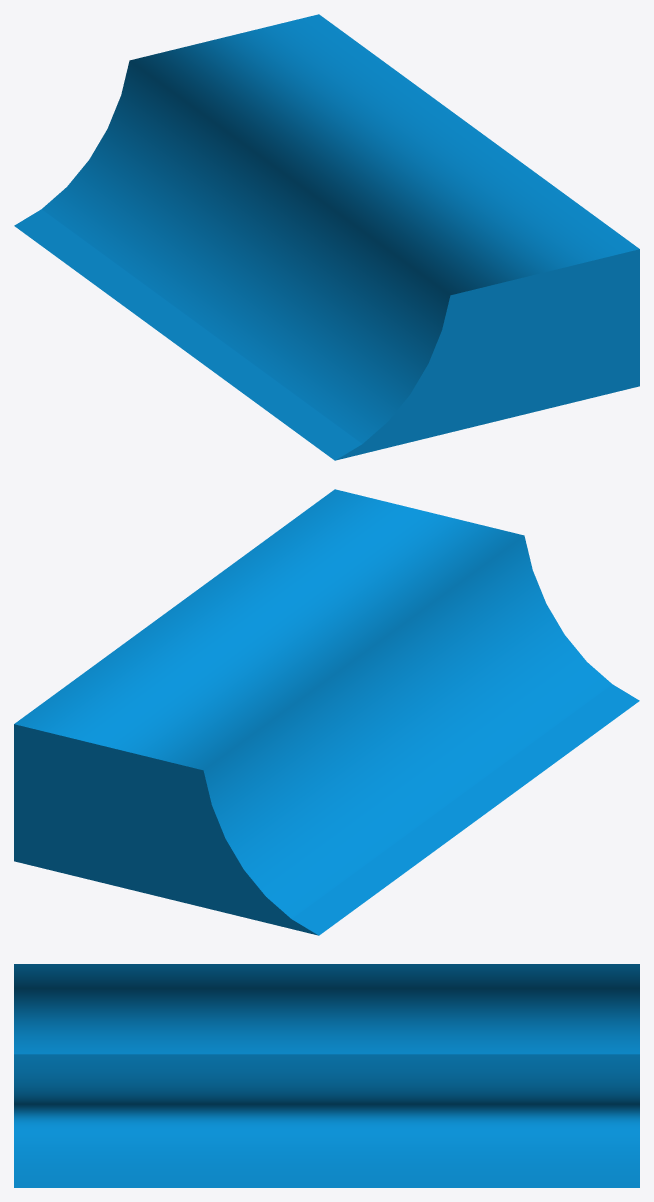
File: Slider.fbx
3 renders of one model, top to bottom at view 1: azimuth 30°, elevation 25°; view 2: azimuth 150°, elevation 25°; view 3: azimuth 270°, elevation 25°, orthographic. The views are drawn at different scales.
Visible parts, largest first — view 1: Foot_Path.001; view 2: Foot_Path.001; view 3: Foot_Path.001.
Boxes of the visible parts, box(x1,y1,x2,y2) form: Foot_Path.001: box(14, 14, 639, 460); Foot_Path.001: box(14, 489, 639, 935); Foot_Path.001: box(14, 964, 639, 1187).
Bounding box in the file's own units: 1293 × 555 × 2355.
